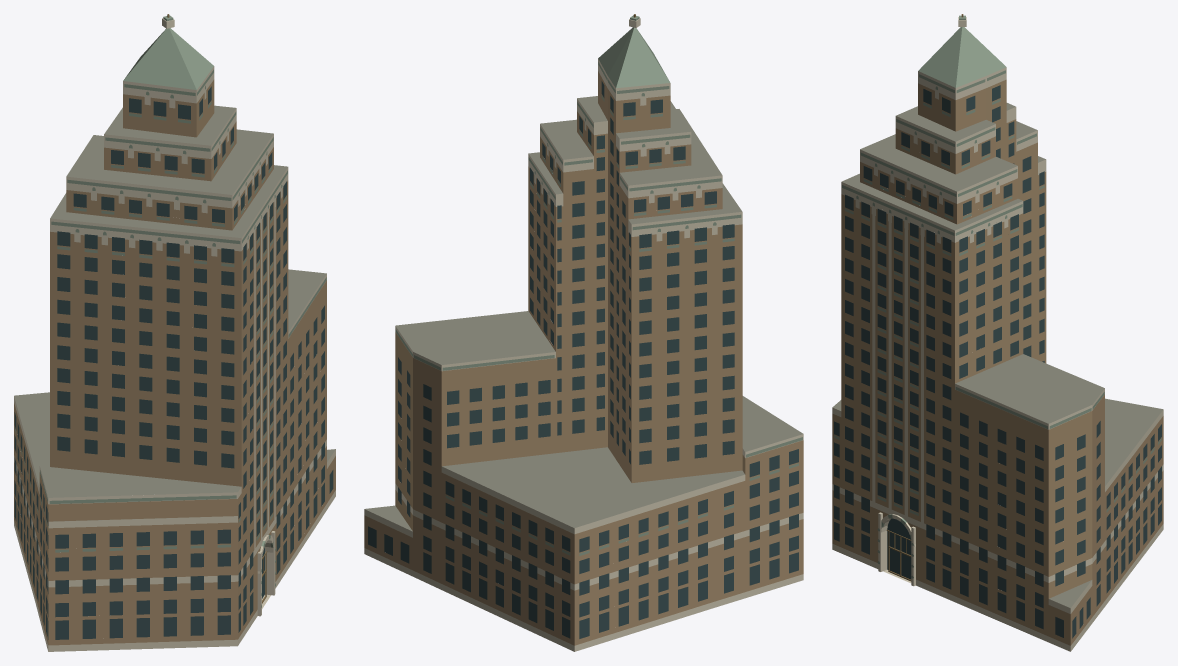
Rendered from marine-building-far.glb.
3 views of the same model, side by side, from view 1: azimuth 30°, elevation 25°; view 2: azimuth 150°, elevation 25°; view 3: azimuth 270°, elevation 25° (orthographic). The views are drawn at different scales.
Visible parts, largest first — view 1: marine-building-0-brick, marine-building-0-glass, marine-building-0-stone, marine-building-0-roof, marine-building-0-green, marine-building-0-glow; view 2: marine-building-0-brick, marine-building-0-glass, marine-building-0-roof, marine-building-0-stone, marine-building-0-green, marine-building-0-glow; view 3: marine-building-0-brick, marine-building-0-glass, marine-building-0-stone, marine-building-0-roof, marine-building-0-green, marine-building-0-glow.
Part boxes in pixels (left/top/right/bottom): marine-building-0-brick: left=14, top=79, right=335, bottom=645; marine-building-0-glass: left=14, top=98, right=324, bottom=639; marine-building-0-stone: left=14, top=18, right=335, bottom=651; marine-building-0-roof: left=14, top=105, right=335, bottom=521; marine-building-0-green: left=14, top=15, right=326, bottom=607; marine-building-0-glow: left=17, top=86, right=333, bottom=639; marine-building-0-brick: left=364, top=71, right=803, bottom=645; marine-building-0-glass: left=368, top=102, right=798, bottom=638; marine-building-0-roof: left=365, top=96, right=803, bottom=531; marine-building-0-stone: left=364, top=18, right=803, bottom=651; marine-building-0-green: left=395, top=15, right=802, bottom=555; marine-building-0-glow: left=398, top=81, right=798, bottom=638; marine-building-0-brick: left=832, top=79, right=1163, bottom=645; marine-building-0-glass: left=834, top=89, right=1161, bottom=638; marine-building-0-stone: left=832, top=17, right=1163, bottom=651; marine-building-0-roof: left=832, top=103, right=1163, bottom=607; marine-building-0-green: left=834, top=15, right=1161, bottom=578; marine-building-0-glow: left=834, top=85, right=1161, bottom=637.
Size of the model in its own units: 66.33 by 98 by 54.94.
